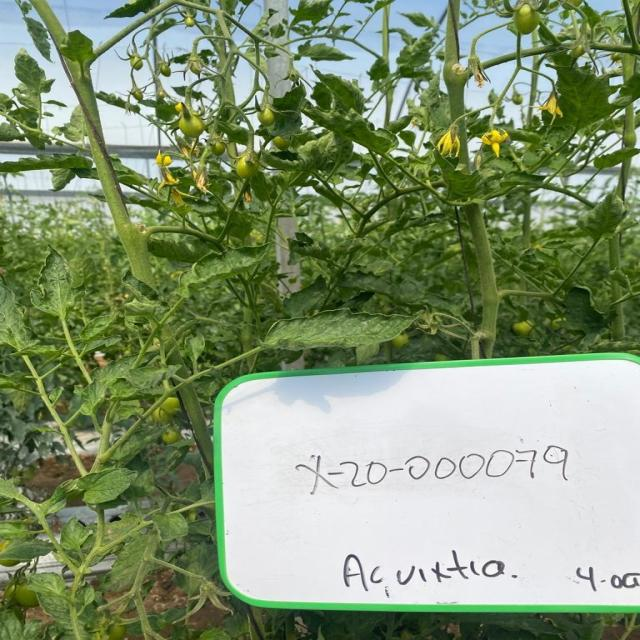T_L_R: (260, 314, 418, 352), (179, 245, 269, 299), (31, 247, 86, 320), (76, 356, 138, 418), (1, 284, 39, 352), (78, 469, 138, 505), (126, 367, 178, 390), (81, 315, 119, 344), (61, 517, 91, 551), (154, 514, 189, 542), (28, 574, 68, 598)
T_S_R: (32, 1, 156, 287), (466, 205, 501, 358)
